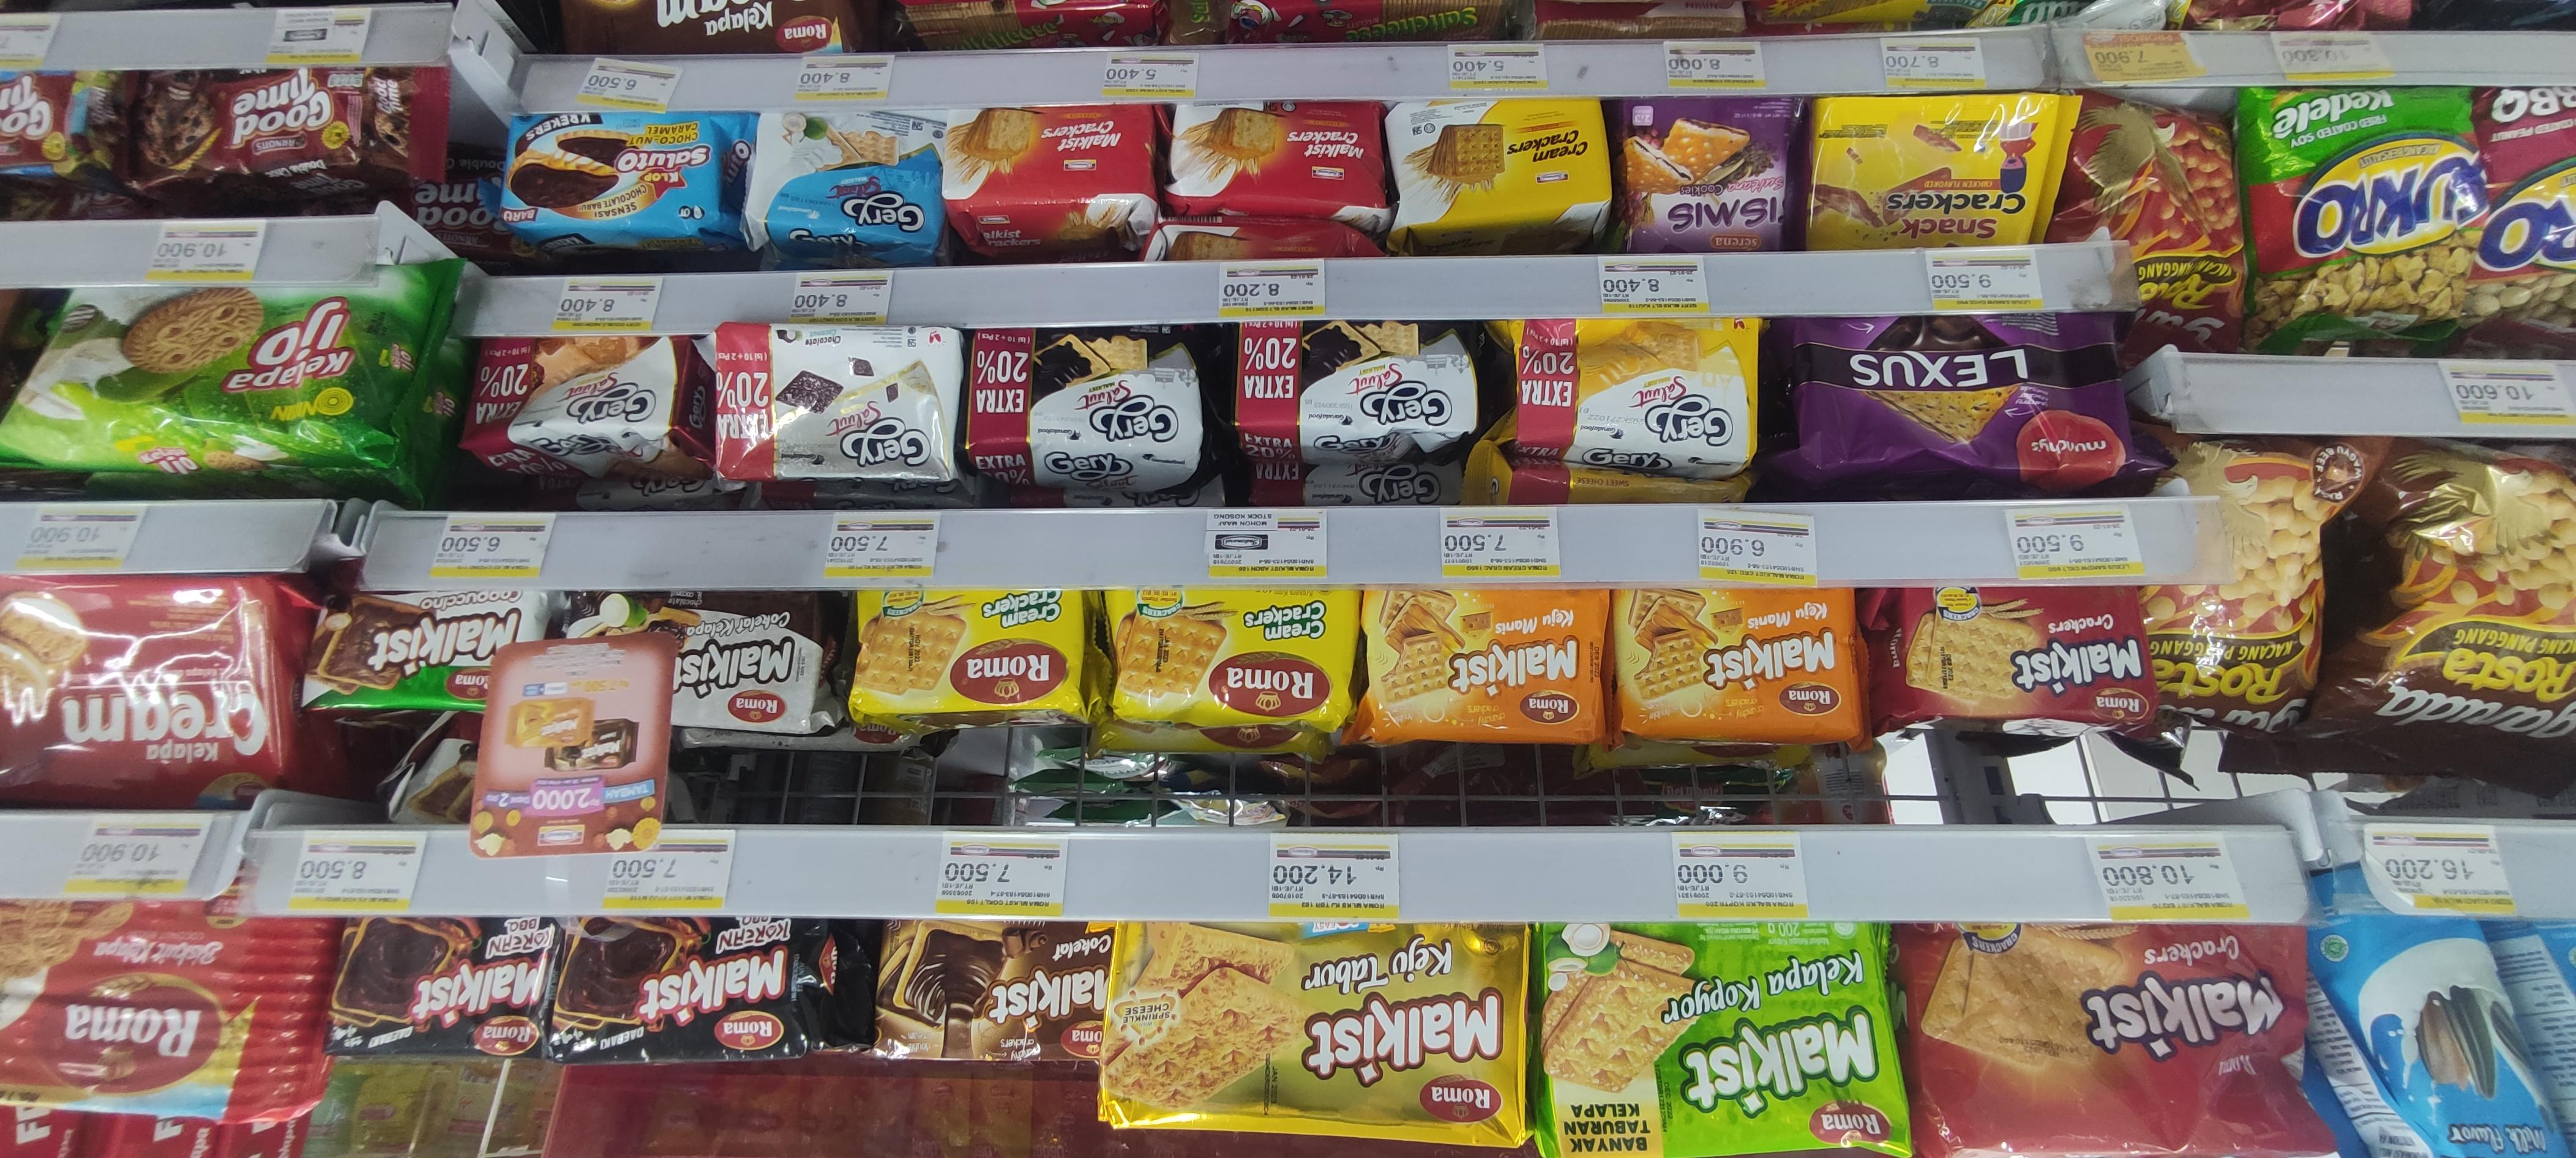90101111611100: (2078, 94, 2242, 353)
90101111615100: (2351, 437, 2576, 769), (2149, 434, 2364, 728)
90101225202101: (963, 327, 1204, 443), (1230, 322, 1480, 430)
90101225205101: (1490, 317, 1759, 462)
90101225209100: (746, 112, 941, 240)
90101225218101: (713, 324, 956, 480)
90101225226101: (463, 335, 685, 447)
ArnottsGoodTime: (133, 67, 419, 184)
DuaKelinciSukroKacangBersalut: (2234, 89, 2487, 352)
IndomaretMalkistCrackers: (1168, 105, 1383, 209), (943, 108, 1153, 204)
IndomaretMalkistCreamCrackers: (1383, 100, 1610, 225)
KlopSalutoChocoNutCaramel: (499, 113, 720, 232)
MunchysLexus: (1773, 312, 2127, 476)
NissinBiskuitKelapaIjo: (0, 284, 399, 466)
RomaMalkistCappucino: (304, 588, 488, 708)
RomaMalkistCokelat: (874, 918, 1102, 1058)
RomaMalkistCrackers: (1907, 921, 2307, 1158), (1874, 585, 2150, 718)
RomaMalkistCreamCrackers: (1106, 586, 1355, 721), (848, 588, 1083, 711)
RomaMalkistKejuManis: (1357, 583, 1607, 744), (1610, 586, 1860, 744)
RomaMalkistKejuTabur: (1107, 918, 1526, 1142)
RomaMalkistKelapaKopyor: (1533, 921, 1899, 1153)
RomaMalkistKoreanBBQ: (549, 918, 807, 1059), (327, 917, 554, 1058)
SerenaKismisSultanaCookies: (1610, 99, 1794, 251)
SerenaSnackCrackersChickenFlavored: (1802, 94, 2049, 246)
